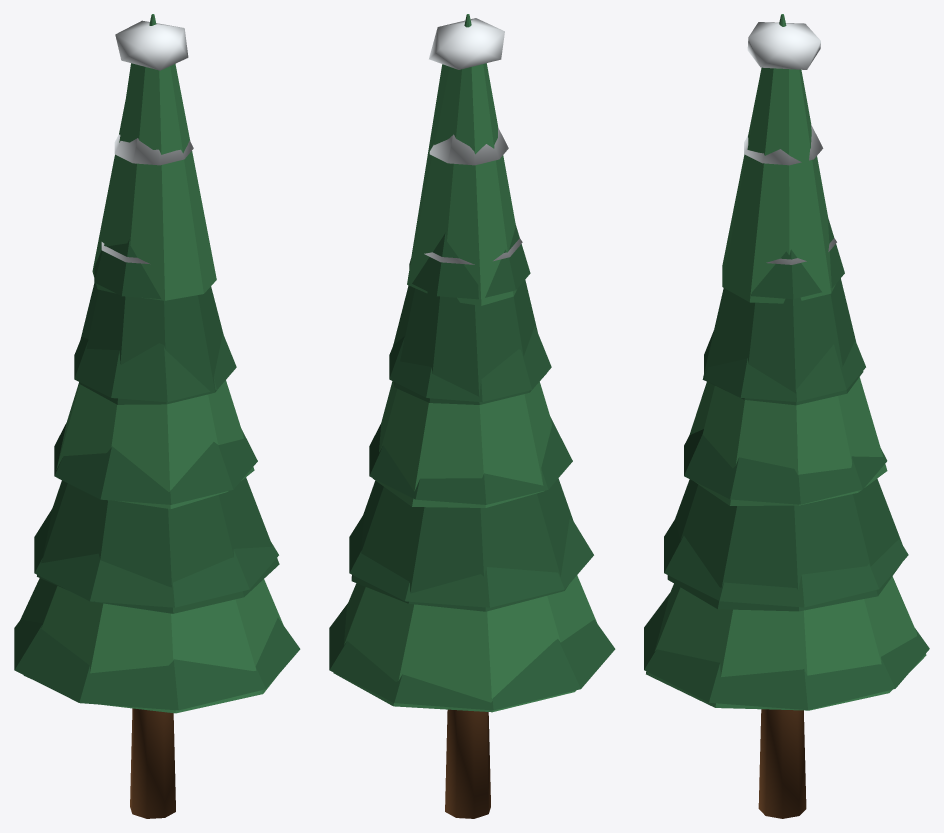
The model's file is hd_pine_snow_b.gltf.
3 views of the same model, side by side, from view 1: azimuth 30°, elevation 25°; view 2: azimuth 150°, elevation 25°; view 3: azimuth 270°, elevation 25° (orthographic).
Visible parts, largest first — view 1: tier4, tier1, tier0, lip0, tier2, tier3, lip1, lip2, lip3, trunk, snowTop, lip4 (+1 smaller); view 2: tier0, tier1, tier4, tier2, tier3, lip0, lip1, lip2, lip3, trunk, lip4, snowTop (+1 smaller); view 3: tier1, tier0, tier4, tier2, tier3, lip0, lip2, lip1, trunk, lip3, snowTop, lip4 (+1 smaller).
Part boxes in pixels (x1,y1,x2,y2): tier4: [92, 63, 216, 300]; tier1: [37, 477, 279, 613]; tier0: [20, 578, 283, 713]; lip0: [14, 618, 300, 710]; tier2: [56, 380, 254, 509]; tier3: [79, 282, 223, 404]; lip1: [34, 508, 278, 607]; lip2: [54, 423, 257, 504]; lip3: [74, 333, 236, 401]; trunk: [130, 708, 175, 818]; snowTop: [115, 20, 188, 70]; lip4: [94, 239, 161, 299]; tier0: [333, 575, 597, 712]; tier1: [351, 478, 573, 611]; tier4: [407, 63, 516, 305]; tier2: [373, 381, 551, 507]; tier3: [393, 280, 546, 404]; lip0: [329, 603, 615, 710]; lip1: [349, 514, 593, 607]; lip2: [369, 417, 572, 504]; lip3: [389, 326, 551, 401]; trunk: [445, 709, 490, 818]; lip4: [409, 222, 530, 299]; snowTop: [429, 18, 504, 69]; tier1: [667, 478, 902, 611]; tier0: [646, 576, 926, 710]; tier4: [722, 67, 835, 303]; tier2: [689, 377, 887, 505]; tier3: [702, 278, 863, 405]; lip0: [644, 592, 929, 710]; lip2: [684, 429, 887, 504]; lip1: [664, 519, 908, 607]; trunk: [758, 709, 806, 818]; lip3: [704, 330, 865, 401]; snowTop: [747, 22, 820, 69]; lip4: [751, 216, 844, 299].
Size of the model in its own units: 1.95 by 5.87 by 1.92.
